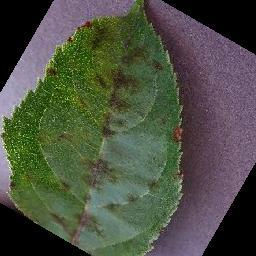apple healthy: (0, 0, 186, 255)
